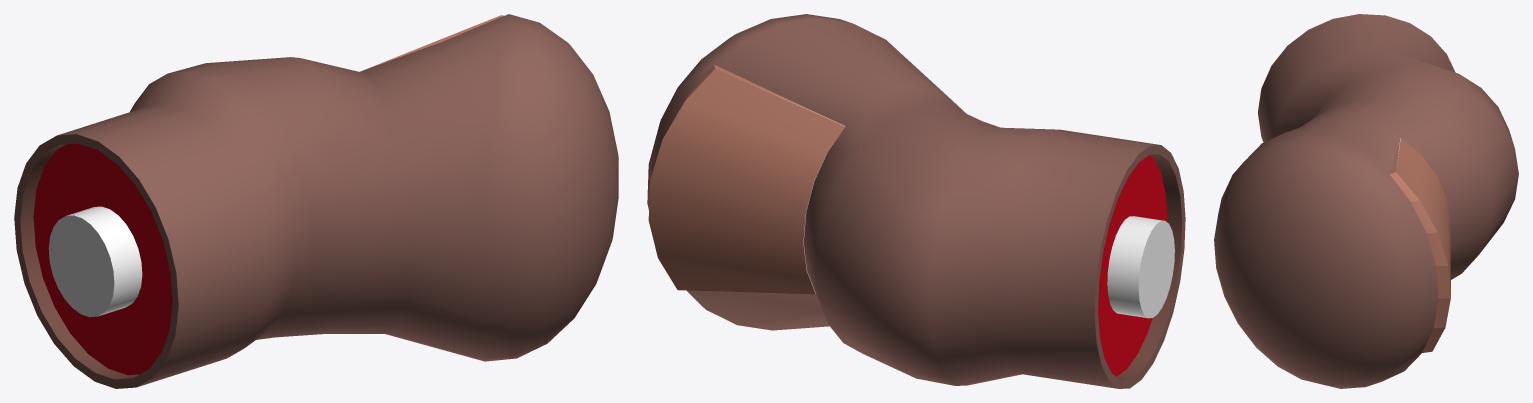
Rendered from toe.obj.
3 renders of one model, left to right at view 1: azimuth 30°, elevation 25°; view 2: azimuth 150°, elevation 25°; view 3: azimuth 270°, elevation 25°, orthographic. The views are drawn at different scales.
Visible parts, largest first — view 1: Mesh1 Model; view 2: Mesh1 Model; view 3: Mesh1 Model.
Part boxes in pixels (<box>): Mesh1 Model: <box>14,14,618,388</box>; Mesh1 Model: <box>647,14,1185,388</box>; Mesh1 Model: <box>1214,14,1518,388</box>.
Bounding box in the file's own units: 144 × 83.61 × 93.14.
